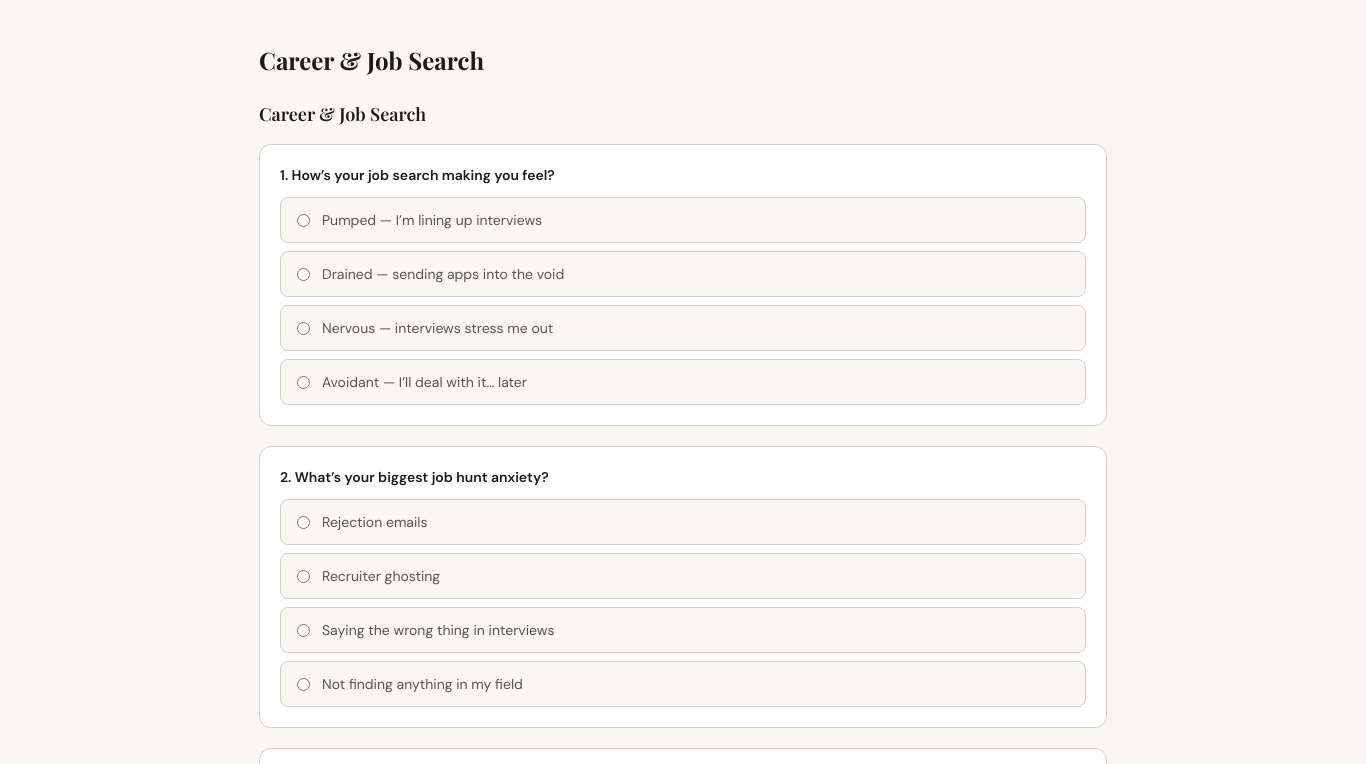
Test case: NextChapterYourWayQuiz - guest › posts into the career group and stores only after success
Step 1. Click the radio button labelled "Pumped — I’m lining up interviews" → (304, 220), box [297, 214, 310, 226]
(page scrolled)
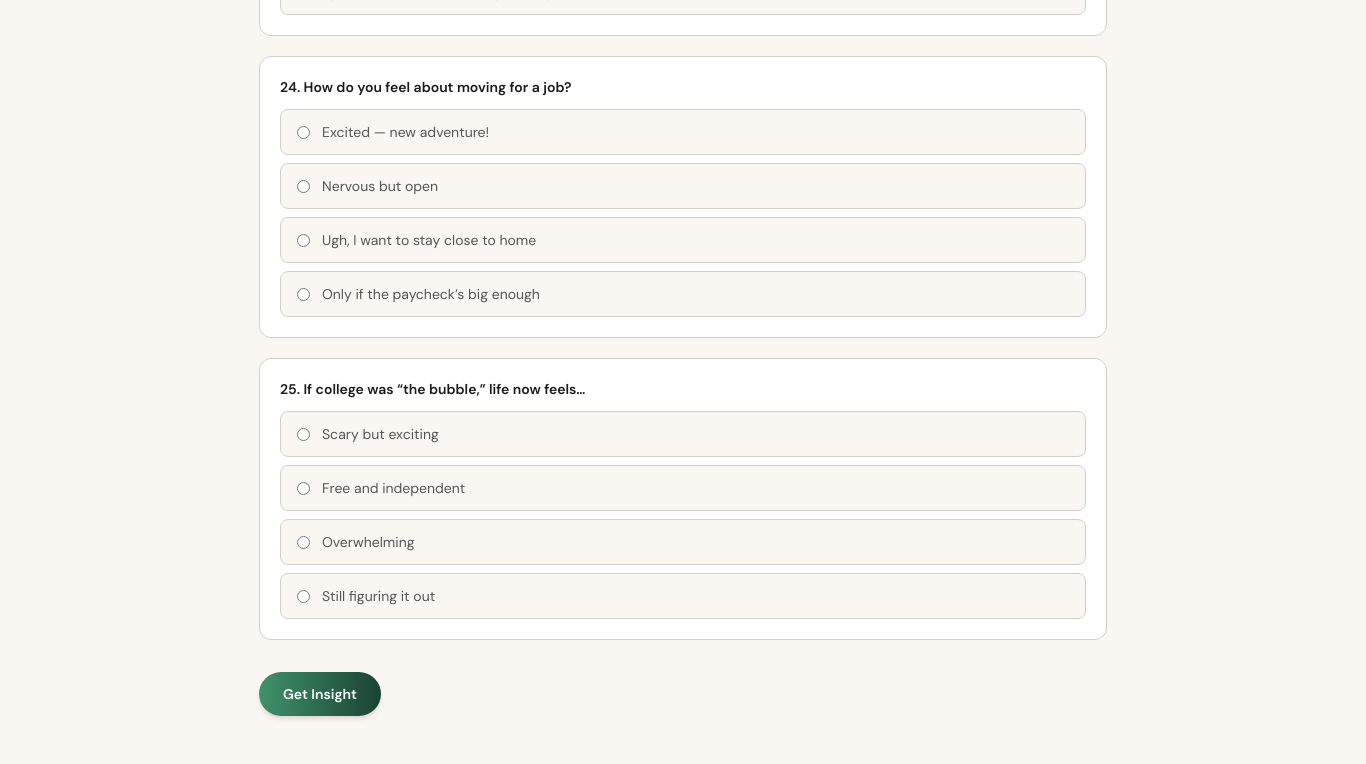
Step 2. Click the button "Get Insight" → (320, 694), box [259, 672, 381, 716]
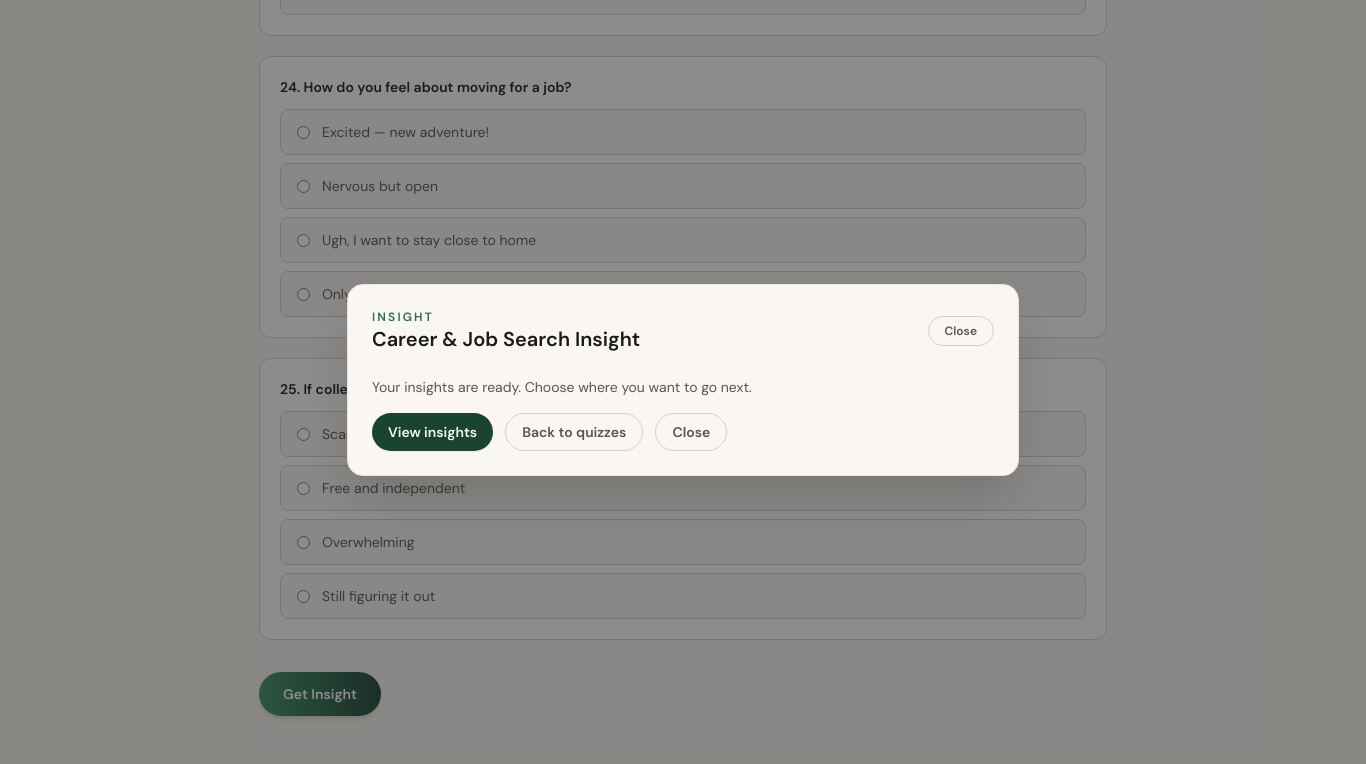
Expected: the text "Your insights are ready. Choose where you want to go next." is shown, [372, 378, 752, 396]
